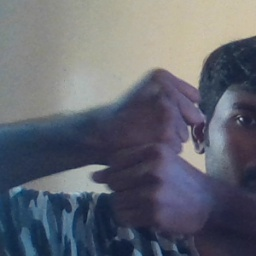G: (106, 66, 207, 237)
